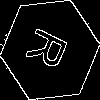R: (25, 25, 77, 76)
